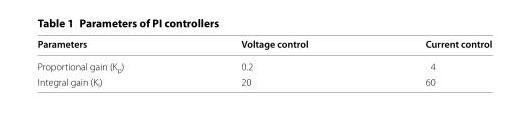table: (36, 36, 491, 88)
table column: (181, 36, 366, 88), (36, 36, 181, 88), (366, 36, 491, 88)
table column header: (36, 36, 491, 54)
table row: (36, 54, 491, 74), (36, 36, 491, 54), (36, 74, 491, 88)
